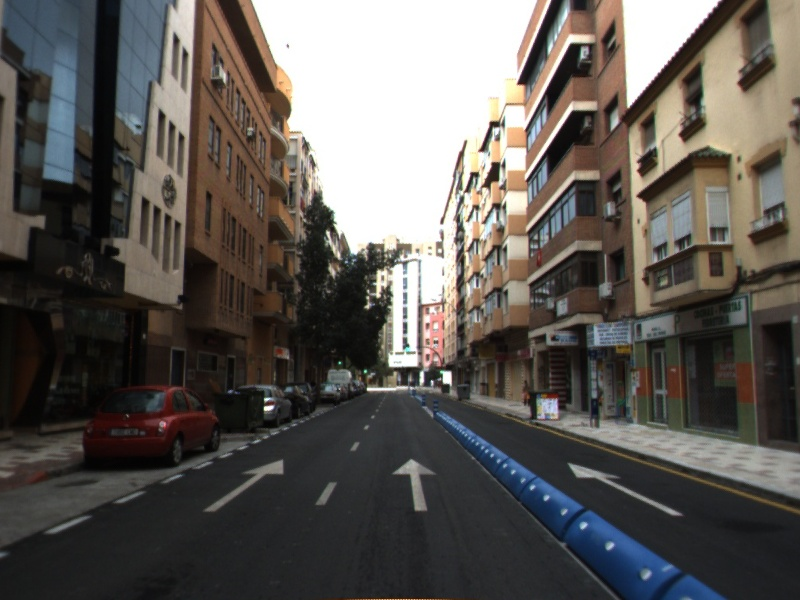STRAIGHT: (566, 461, 686, 518), (201, 457, 286, 514), (390, 457, 439, 513)
